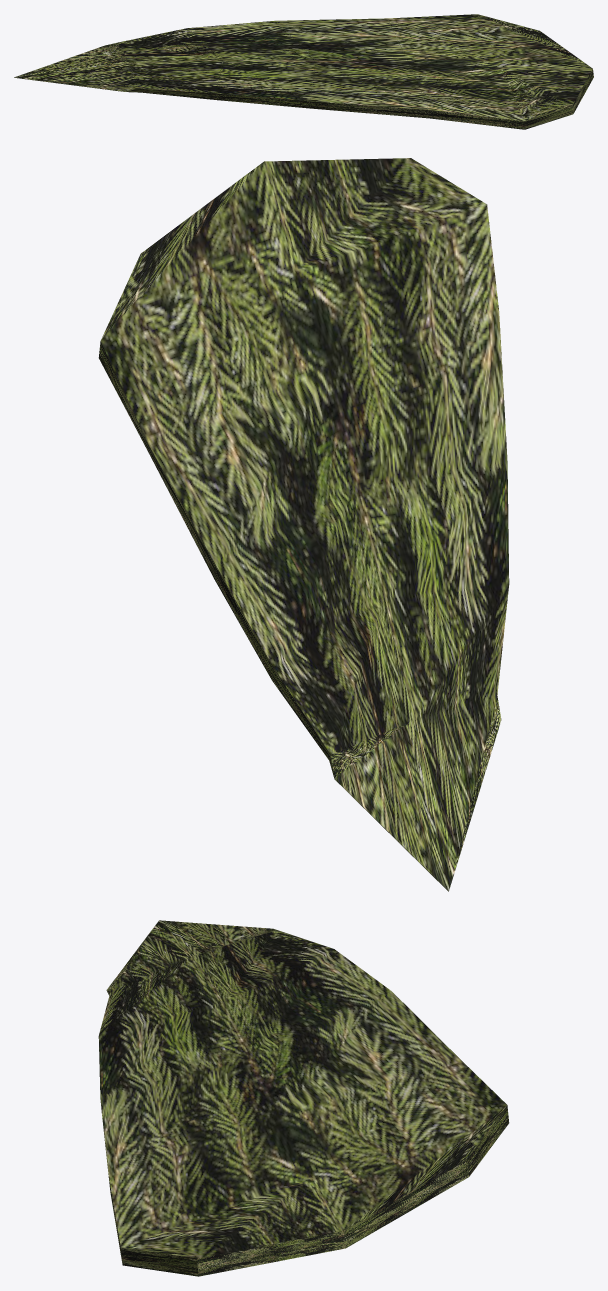
Rendered from leafObject.fbx.
The picture shows the model from 3 angles, top to bottom: view 1: azimuth 30°, elevation 25°; view 2: azimuth 150°, elevation 25°; view 3: azimuth 330°, elevation 25°; orthographic projection. The views are drawn at different scales.
Visible parts, largest first — view 1: Leaf; view 2: Leaf; view 3: Leaf.
Part boxes in pixels (left/top/right/bottom): Leaf: left=14, top=14, right=593, bottom=129; Leaf: left=98, top=158, right=509, bottom=891; Leaf: left=98, top=920, right=509, bottom=1276.
Bounding box in the file's own units: 0.4348 × 0.1283 × 0.5958.
